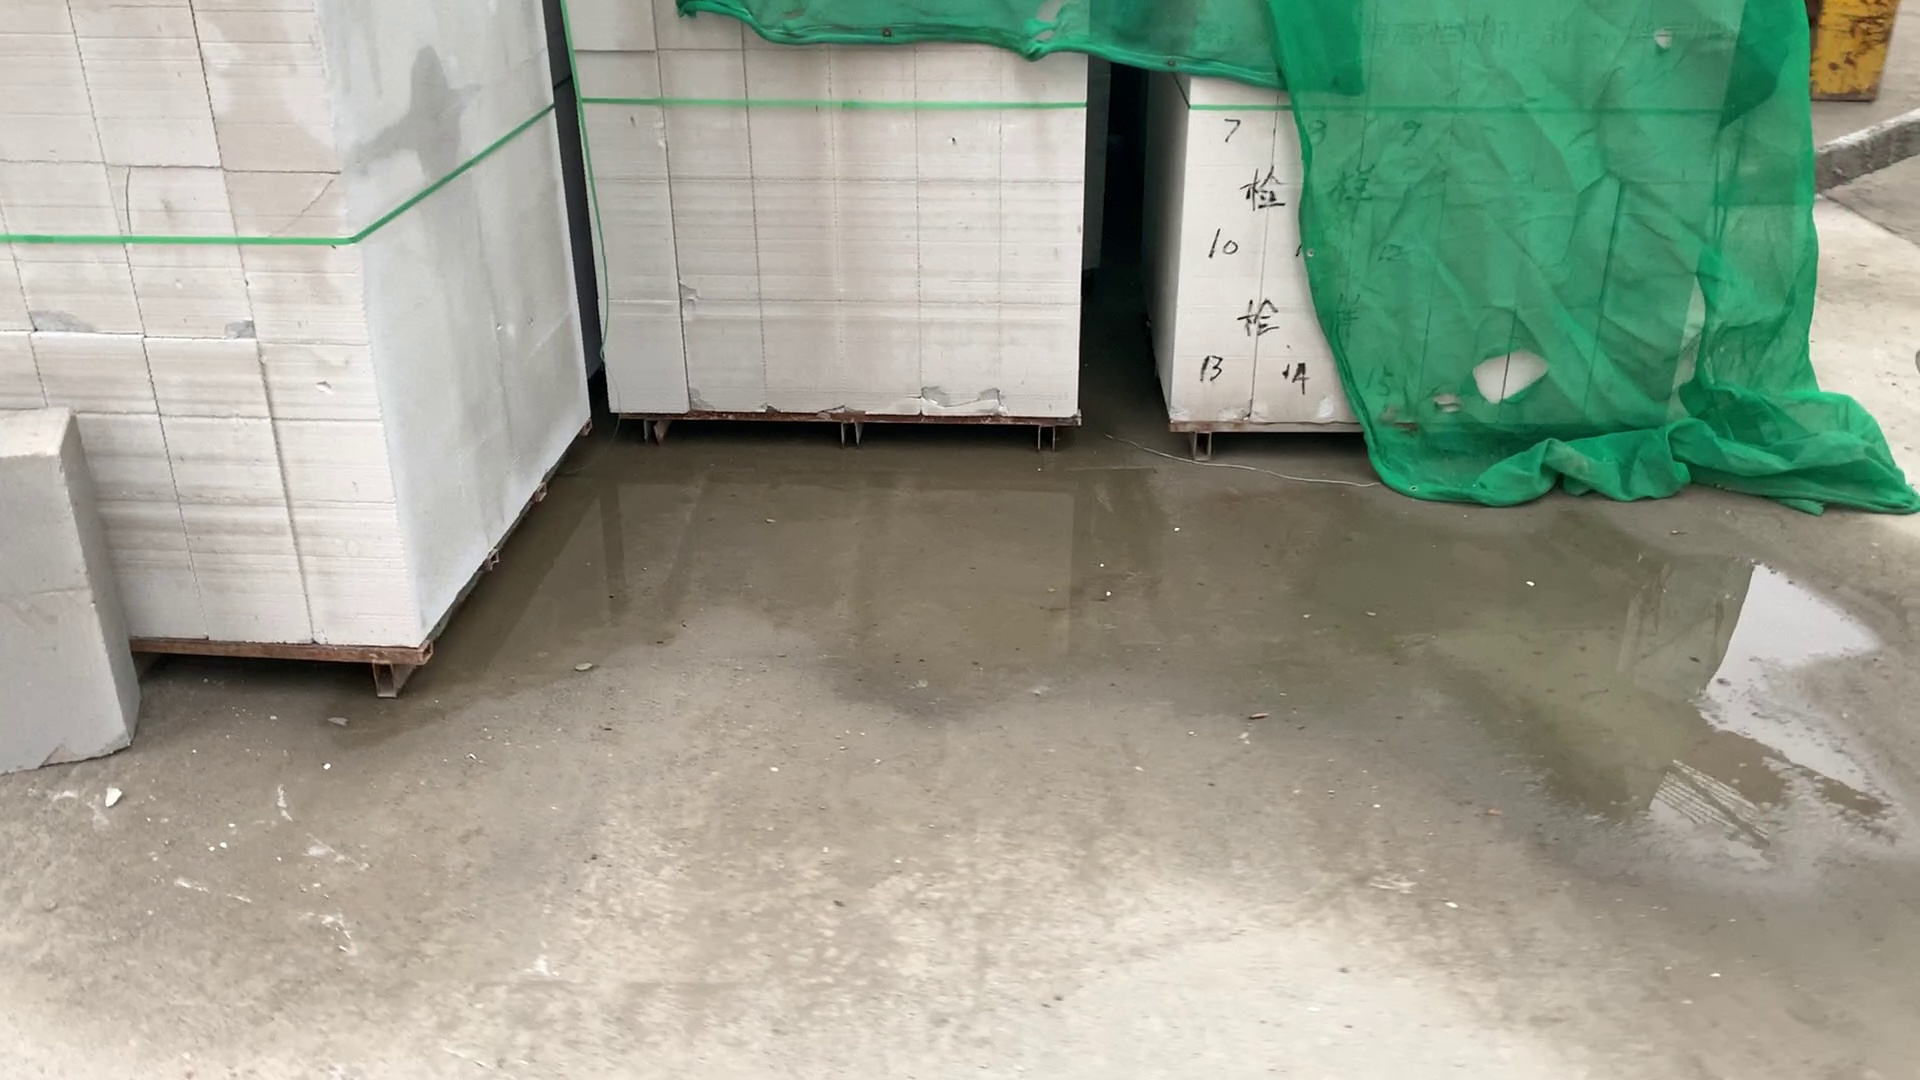brickwork: (4, 7, 588, 679), (1153, 4, 1706, 443), (560, 1, 1079, 434)
